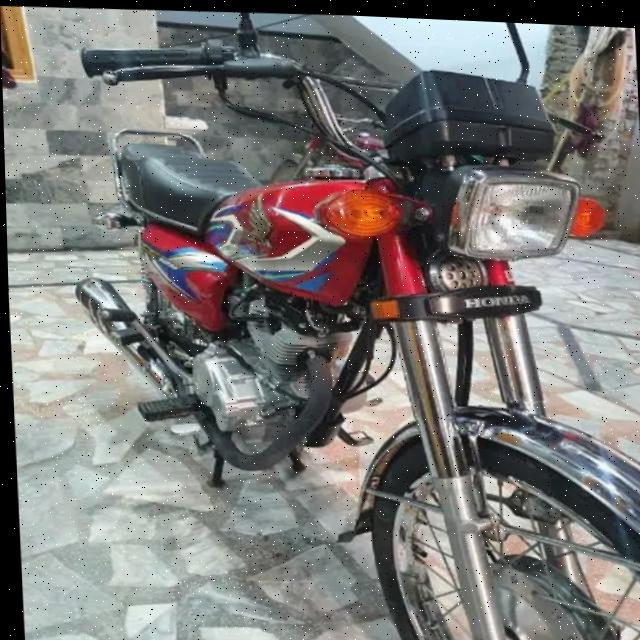Bike: (67, 17, 640, 640)
